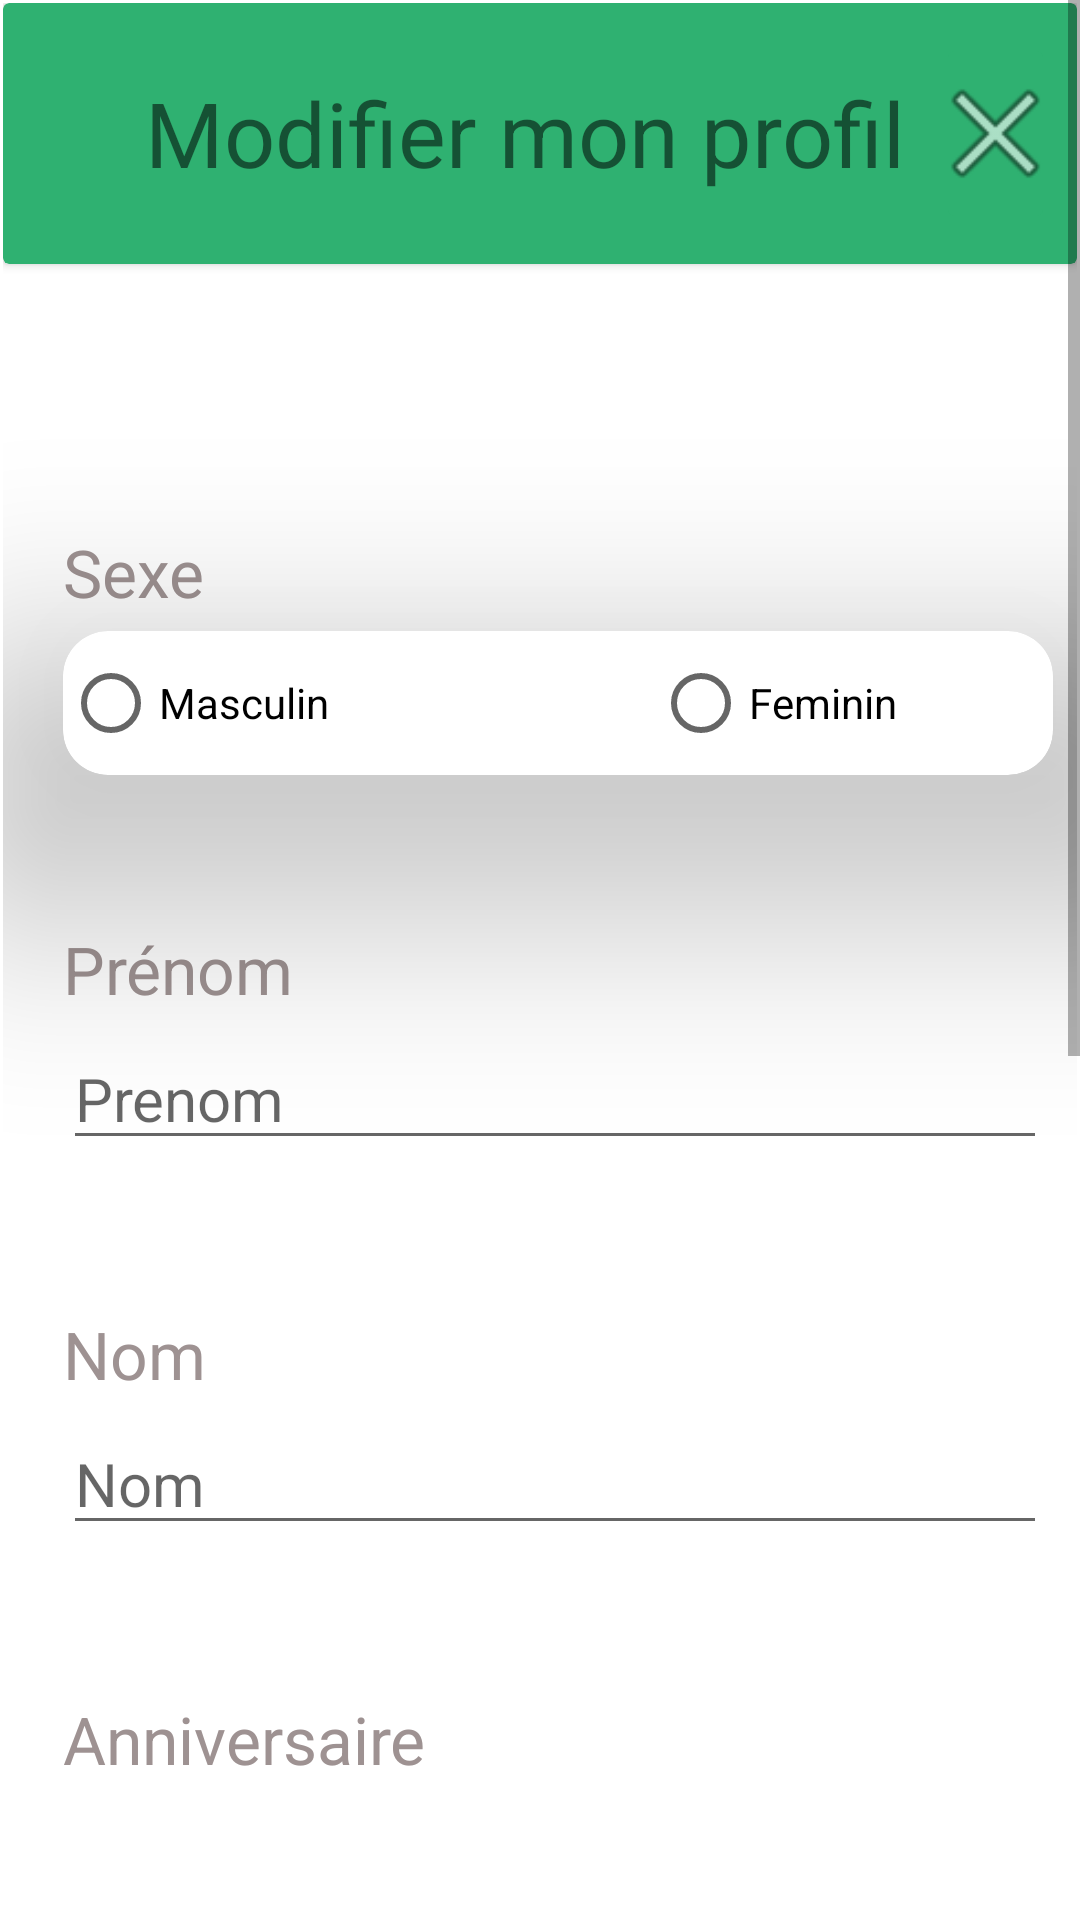

Where to tap for icons on this 1080x1920 app screen, as (x=x, y=y):
close clear cancel: (x=995, y=133)
